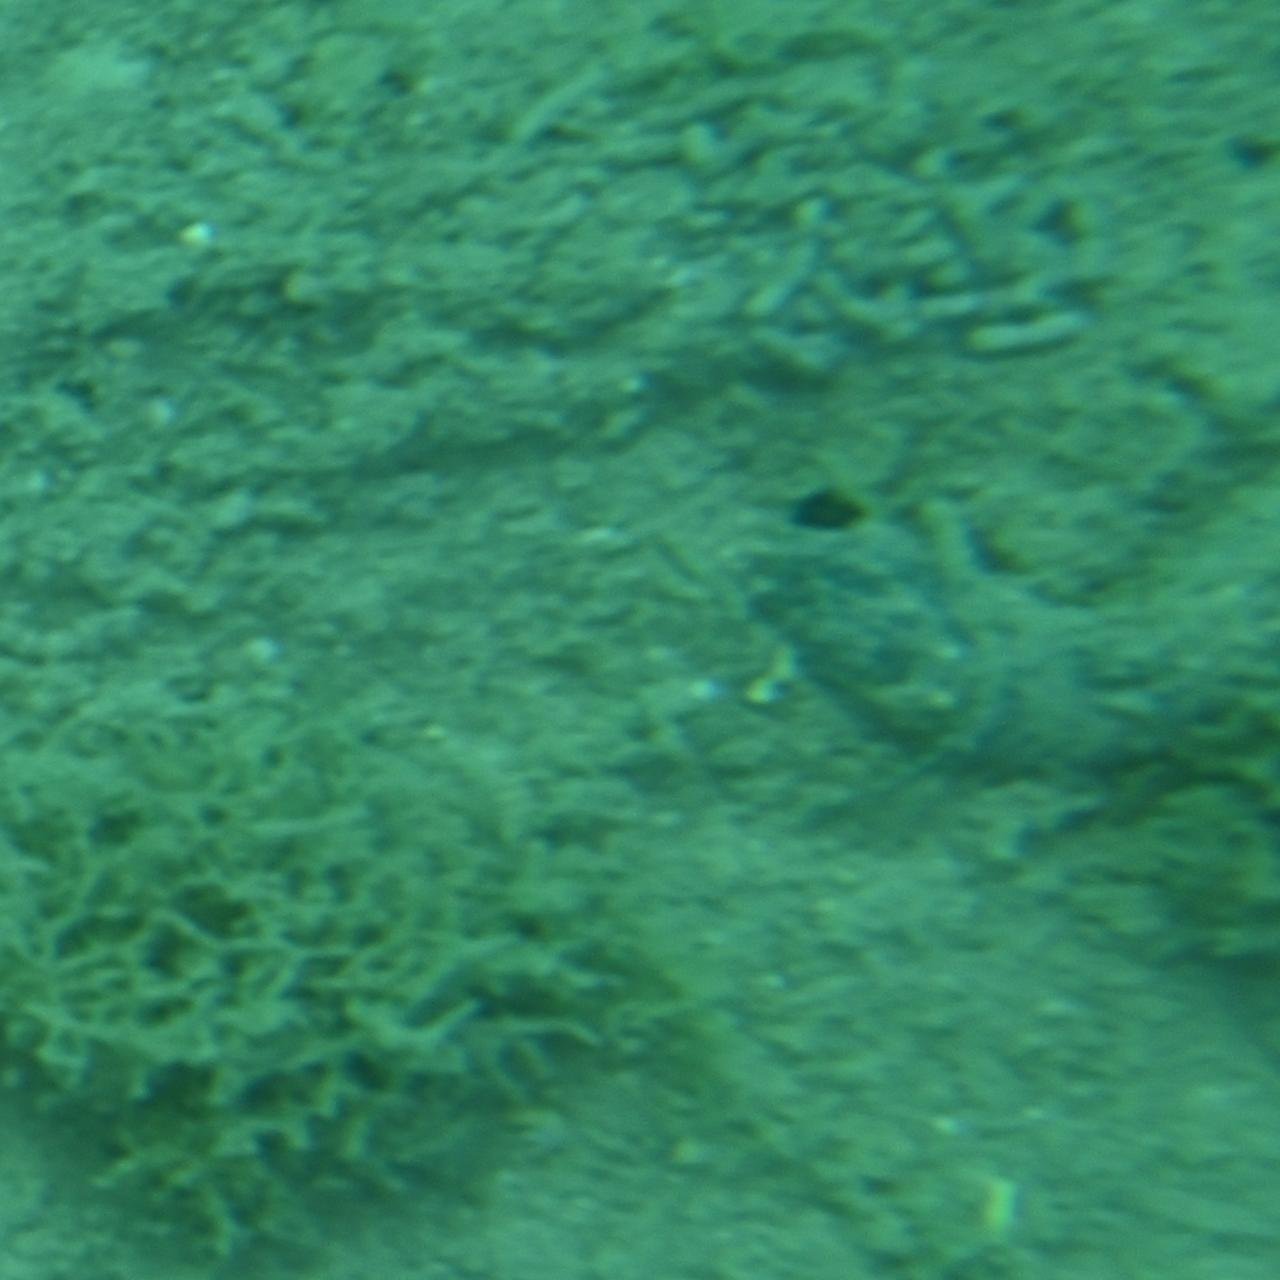Holothuria tubulosa: (751, 492, 1280, 788)
